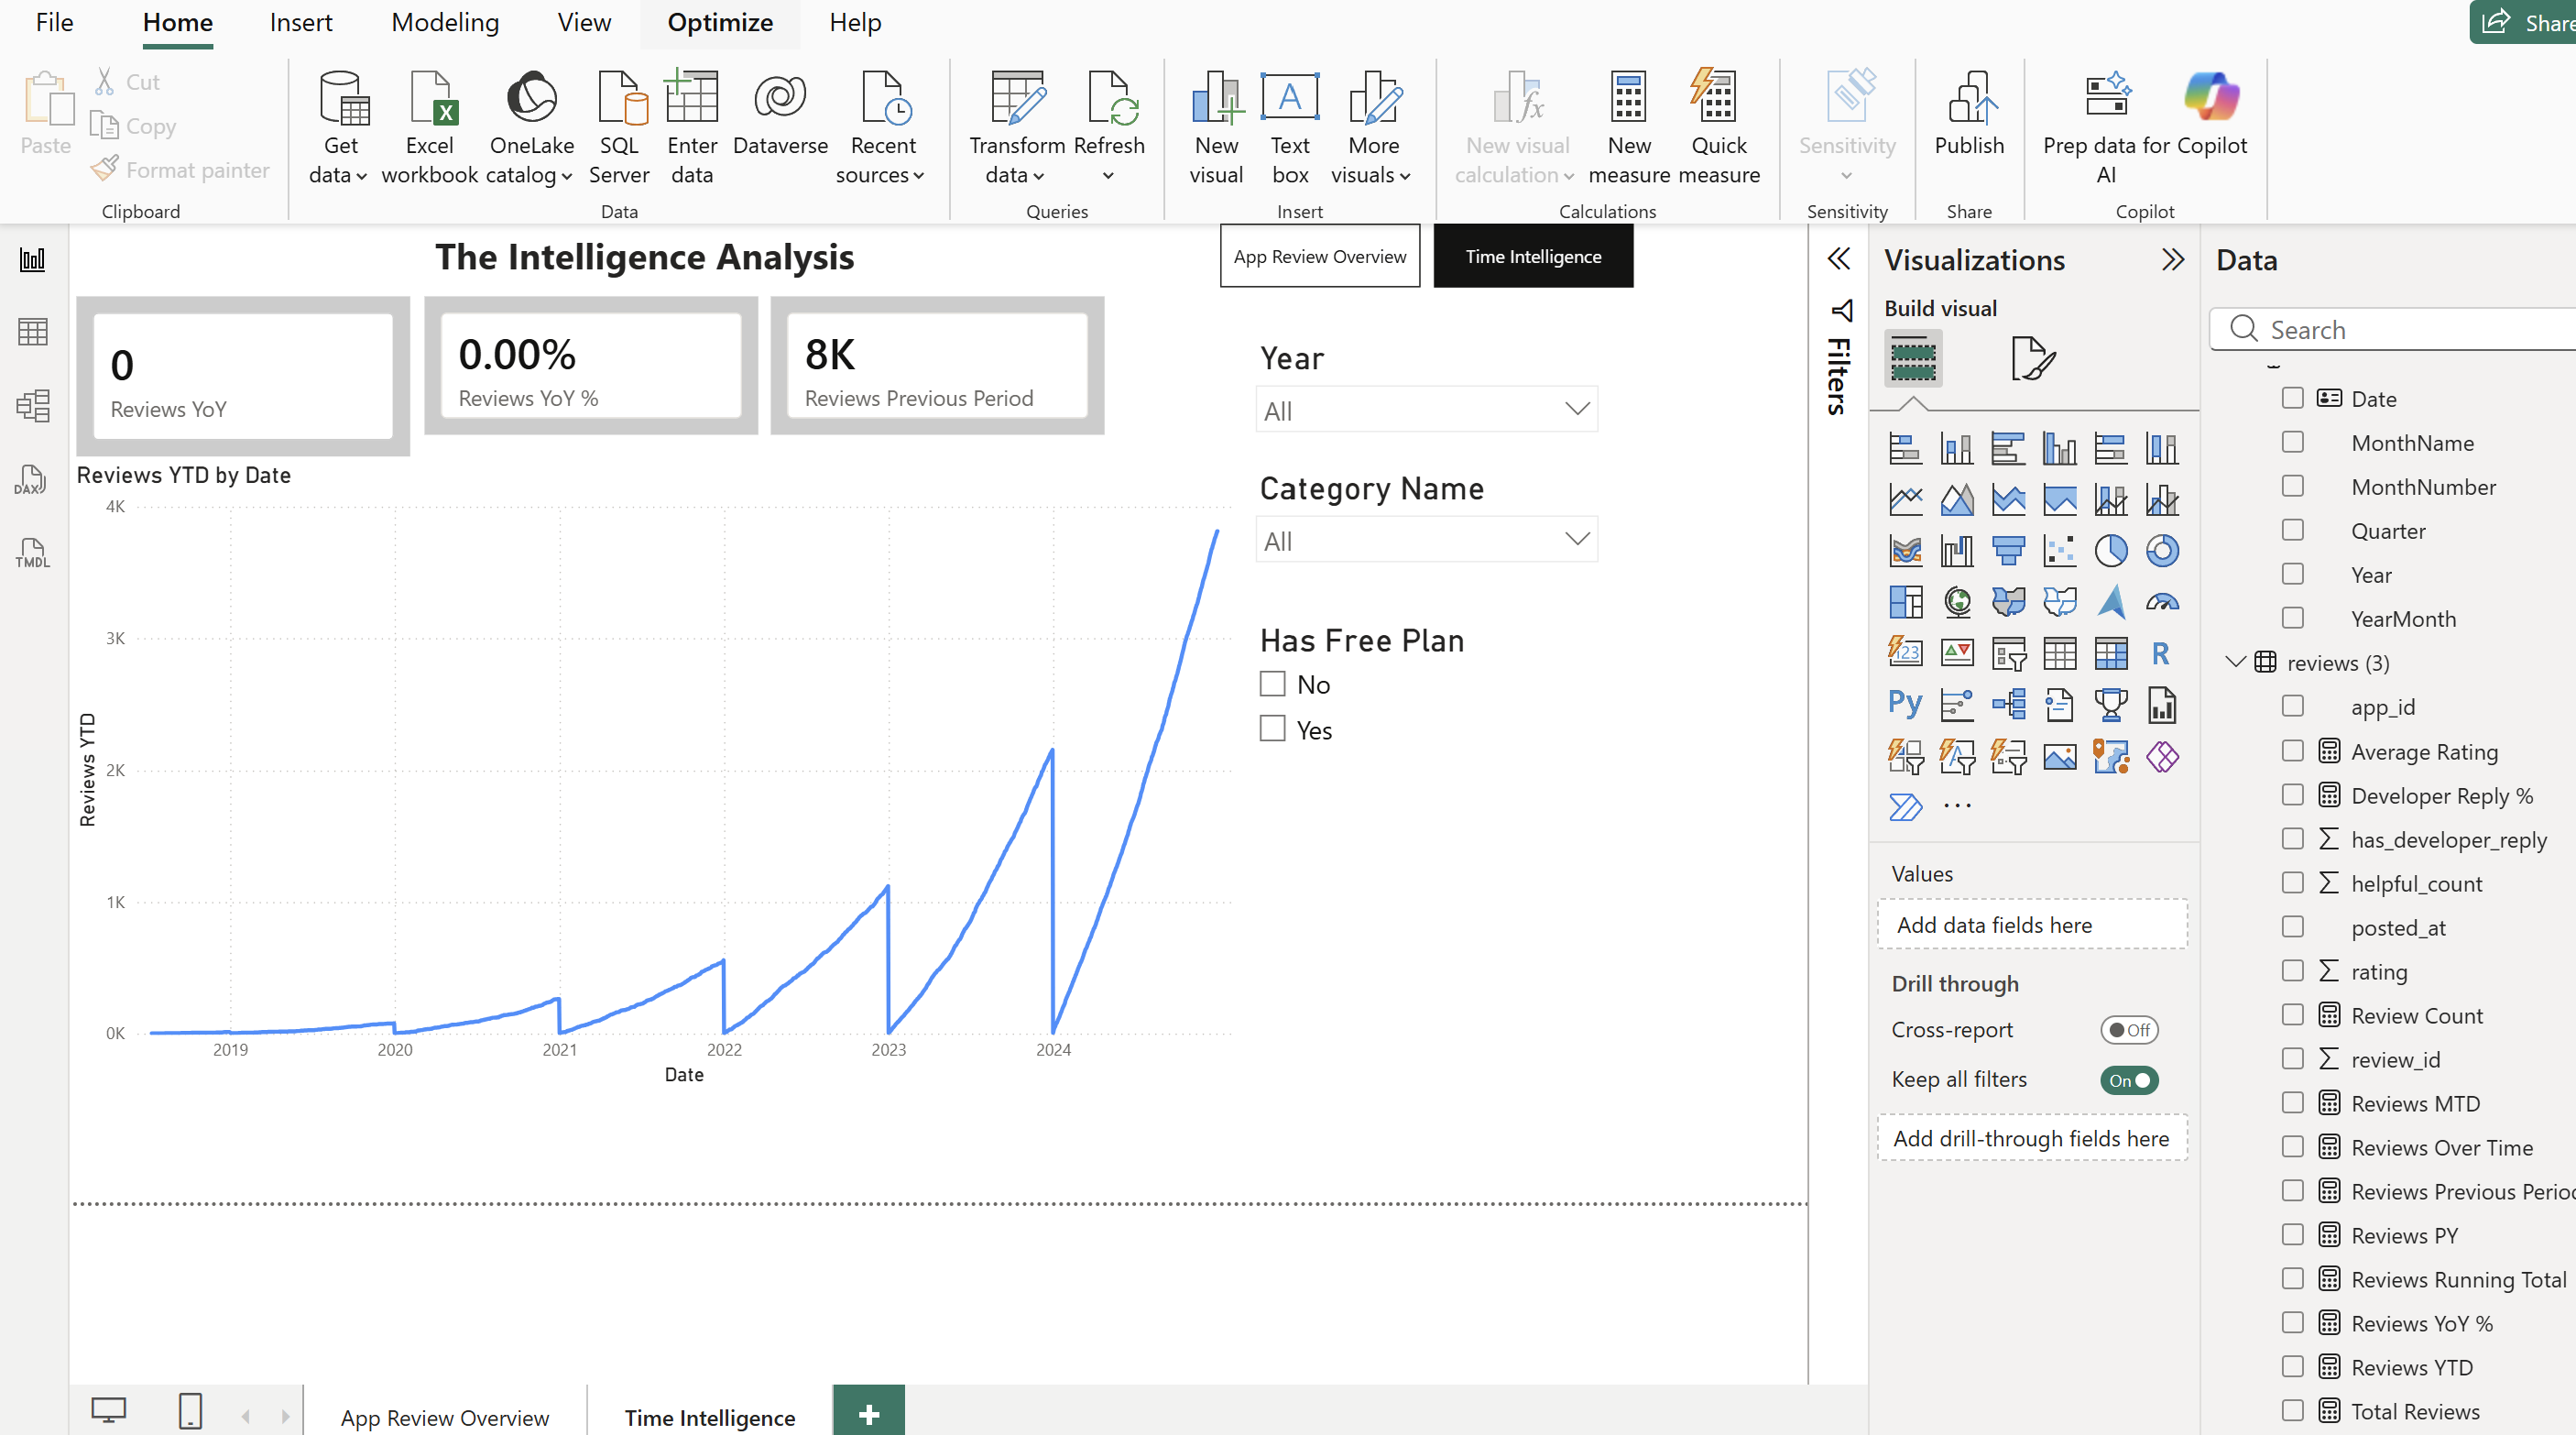

Layout of this report page (visuals, bound fields, positions):
{"tool":"powerbi","page":{"name":"Time Intelligence","canvas":[1280,720],"ordinal":1},"visuals":[{"type":"lineChart","fields":{"Category":["dim_date.Date"],"Y":["reviews (3).Reviews YTD"]},"box":[0,176,864,464],"z":0},{"type":"cardVisual","fields":{"Data":["apps (3).Reviews YoY"]},"box":[0,48,256,128],"z":1000},{"type":"slicer","fields":{"Values":["dim_date.Year"]},"box":[864,80,272,128],"z":2000},{"type":"cardVisual","fields":{"Data":["reviews (3).Reviews Previous Period"]},"box":[512,48,256,112],"z":3000},{"type":"cardVisual","fields":{"Data":["reviews (3).Reviews YoY %"]},"box":[256,48,256,112],"z":4000},{"type":"slicer","fields":{"Values":["apps (3).category_name"]},"box":[864,176,272,112],"z":5000},{"type":"slicer","fields":{"Values":["apps (3).has_free_plan"]},"box":[864,288,288,112],"z":6000},{"type":"pageNavigator","box":[848,0,304,48],"z":7000},{"type":"textbox","box":[0,0,848,48],"z":7001}]}

Visuals, with their boxes on the page's 1280x720 design canvas (x1, y1, x2, y2). These are canvas units, not pixel positions in the 2576x1435 screenshot, which may show the page scaled, cropped or inside an application window:
lineChart - dim_date.Date x reviews (3).Reviews YTD: box(0, 176, 864, 640)
cardVisual - apps (3).Reviews YoY: box(0, 48, 256, 176)
slicer - dim_date.Year: box(864, 80, 1136, 208)
cardVisual - reviews (3).Reviews Previous Period: box(512, 48, 768, 160)
cardVisual - reviews (3).Reviews YoY %: box(256, 48, 512, 160)
slicer - apps (3).category_name: box(864, 176, 1136, 288)
slicer - apps (3).has_free_plan: box(864, 288, 1152, 400)
pageNavigator: box(848, 0, 1152, 48)
textbox: box(0, 0, 848, 48)
